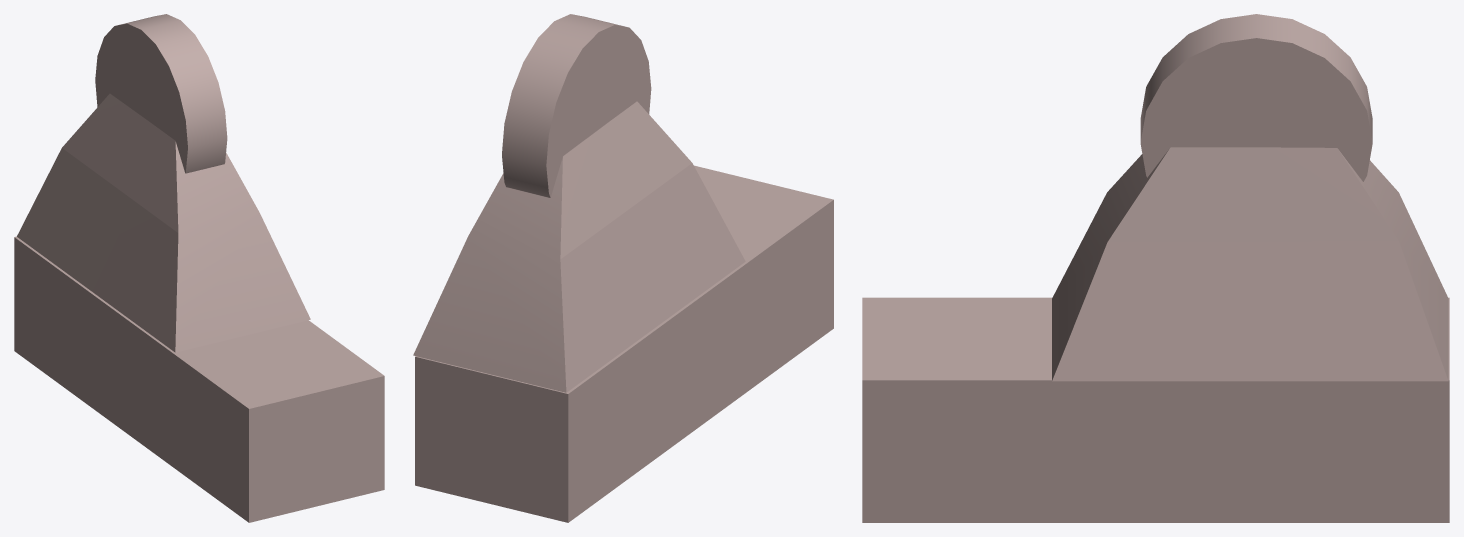
File: pie.obj
3 views of the same model, side by side, from view 1: azimuth 30°, elevation 25°; view 2: azimuth 150°, elevation 25°; view 3: azimuth 270°, elevation 25° (orthographic). The views are drawn at different scales.
Parts seen in each view (by area): view 1: left_leg1_pCube10; view 2: left_leg1_pCube10; view 3: left_leg1_pCube10.
Boxes of the visible parts, bbox=[...] form: left_leg1_pCube10: bbox=[14, 14, 384, 522]; left_leg1_pCube10: bbox=[413, 14, 833, 522]; left_leg1_pCube10: bbox=[862, 14, 1449, 522].
Size of the model in its own units: 1.02 by 2.57 by 3.
Materials: 1 (1 with a texture image).
